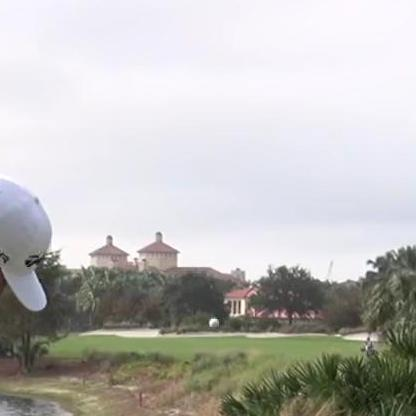golfball: (207, 316, 216, 326)
